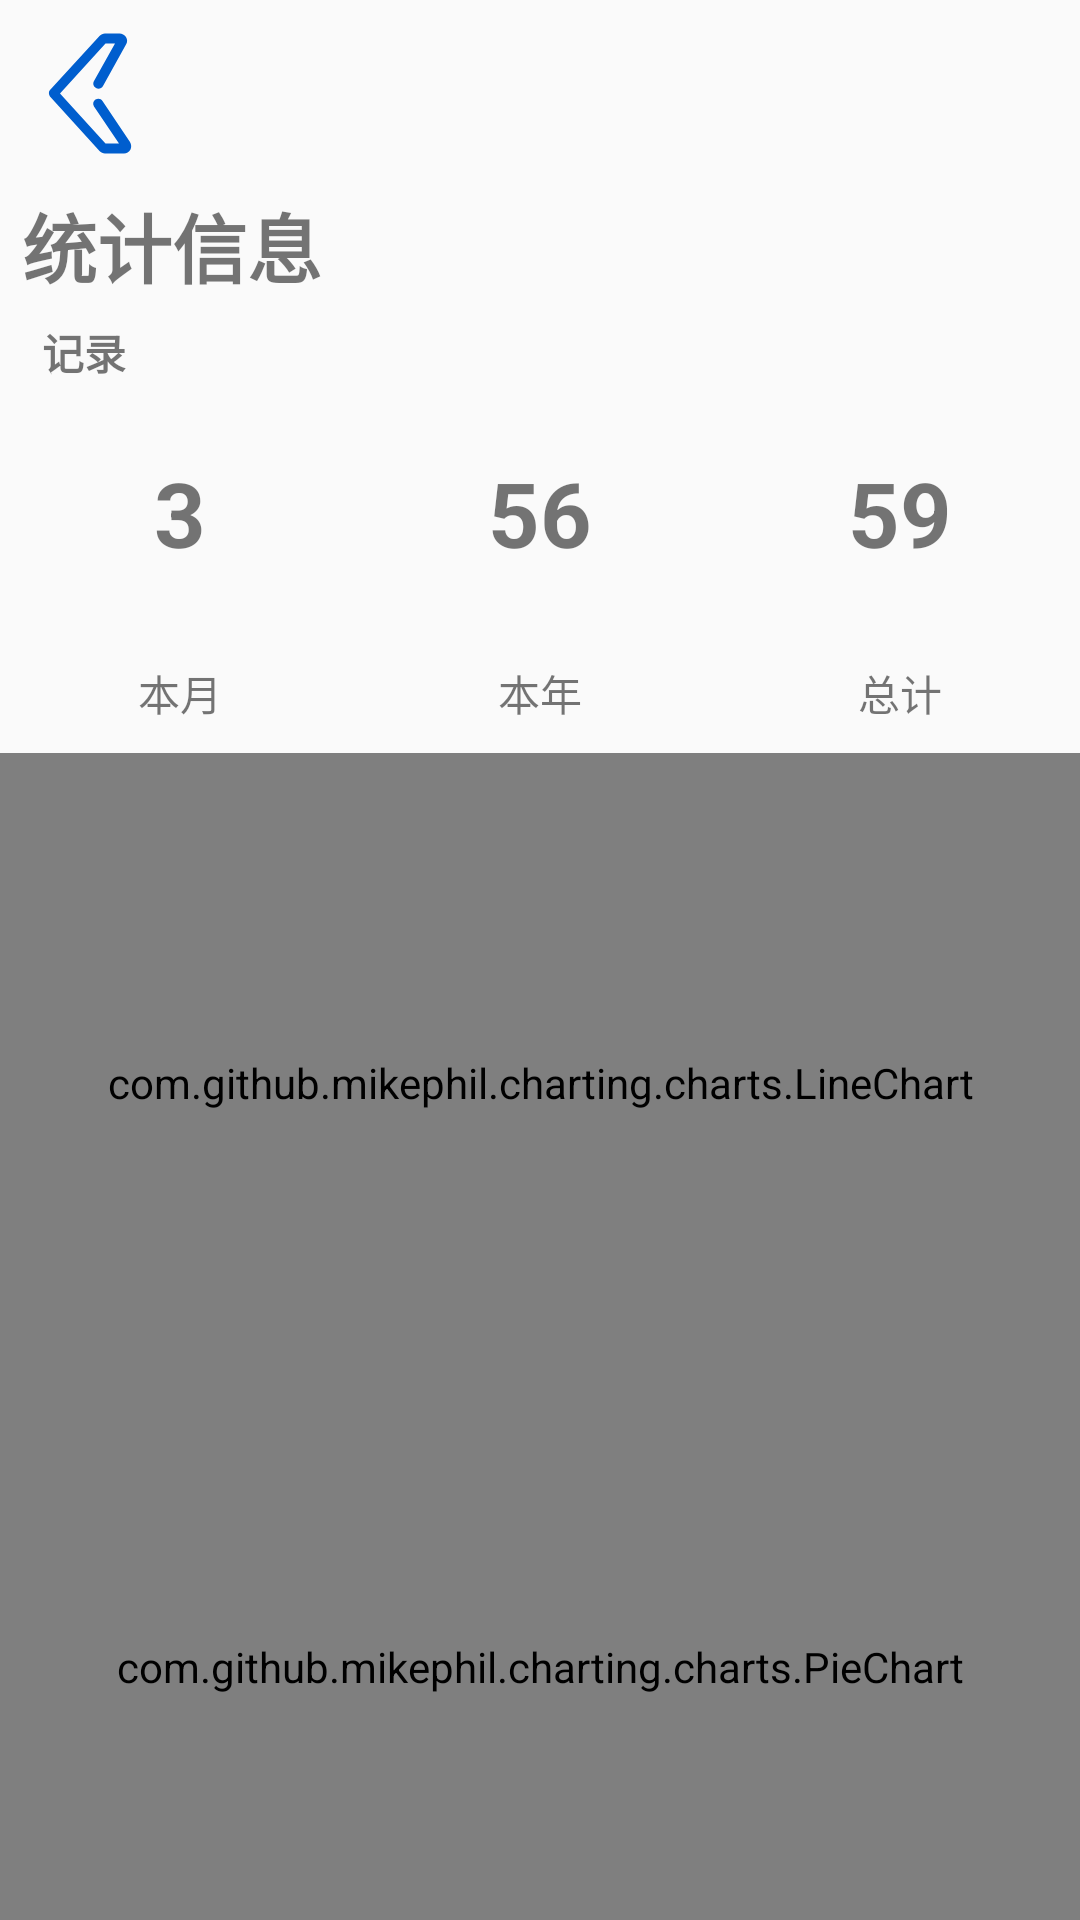

Icons on this 1080 x 1920 Android screen, each with the point to tap as [x,y]:
back: [90,93]
